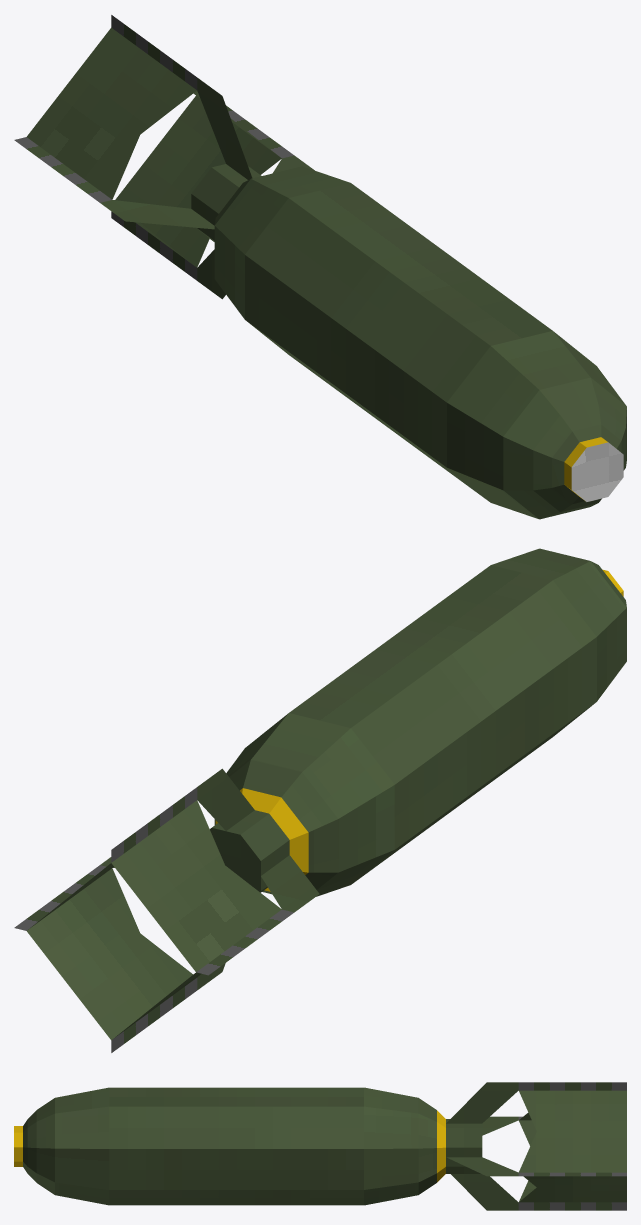
The model's file is anm30.obj.
3 renders of one model, top to bottom at view 1: azimuth 30°, elevation 25°; view 2: azimuth 150°, elevation 25°; view 3: azimuth 270°, elevation 25°, orthographic. The views are drawn at different scales.
Parts seen in each view (by area): view 1: cube, plane; view 2: cube, plane; view 3: cube, plane.
Boxes of the visible parts, x1,y1,x2,y2 form: cube: (191, 164, 626, 519); plane: (14, 15, 314, 299); cube: (210, 548, 626, 896); plane: (14, 768, 319, 1052); cube: (14, 1087, 482, 1205); plane: (446, 1082, 626, 1210).
Size of the model in its own units: 0.4865 by 0.4865 by 2.11.
